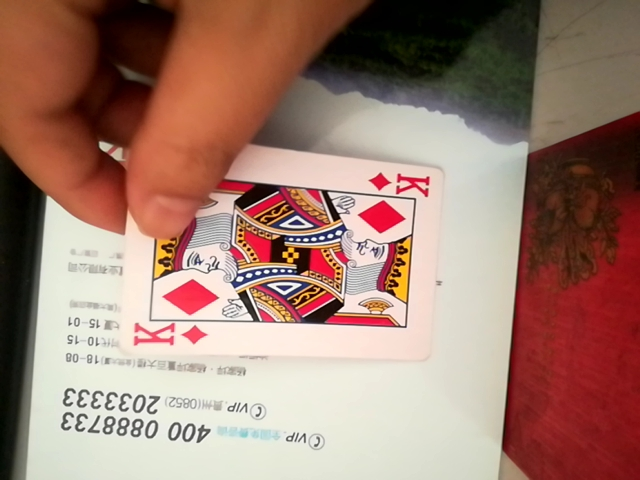fk k: (126, 158, 439, 363)
